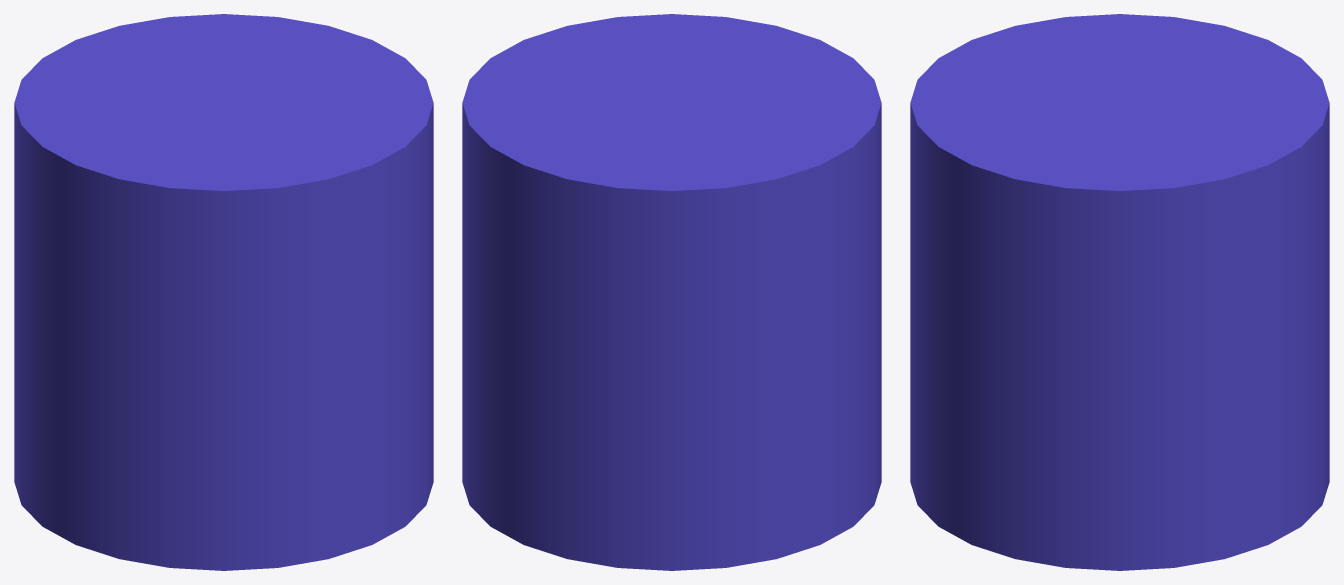
File: LevelDecorativeInner.glb
The picture shows the model from 3 angles, left to right: view 1: azimuth 30°, elevation 25°; view 2: azimuth 150°, elevation 25°; view 3: azimuth 270°, elevation 25°; orthographic projection.
Visible parts, largest first — view 1: cylinder; view 2: cylinder; view 3: cylinder.
Part boxes in pixels (box(x1,y1,x2,y2)): cylinder: box(14, 14, 433, 570); cylinder: box(462, 14, 881, 570); cylinder: box(910, 14, 1329, 570).
Size of the model in its own units: 1 by 1 by 1.
